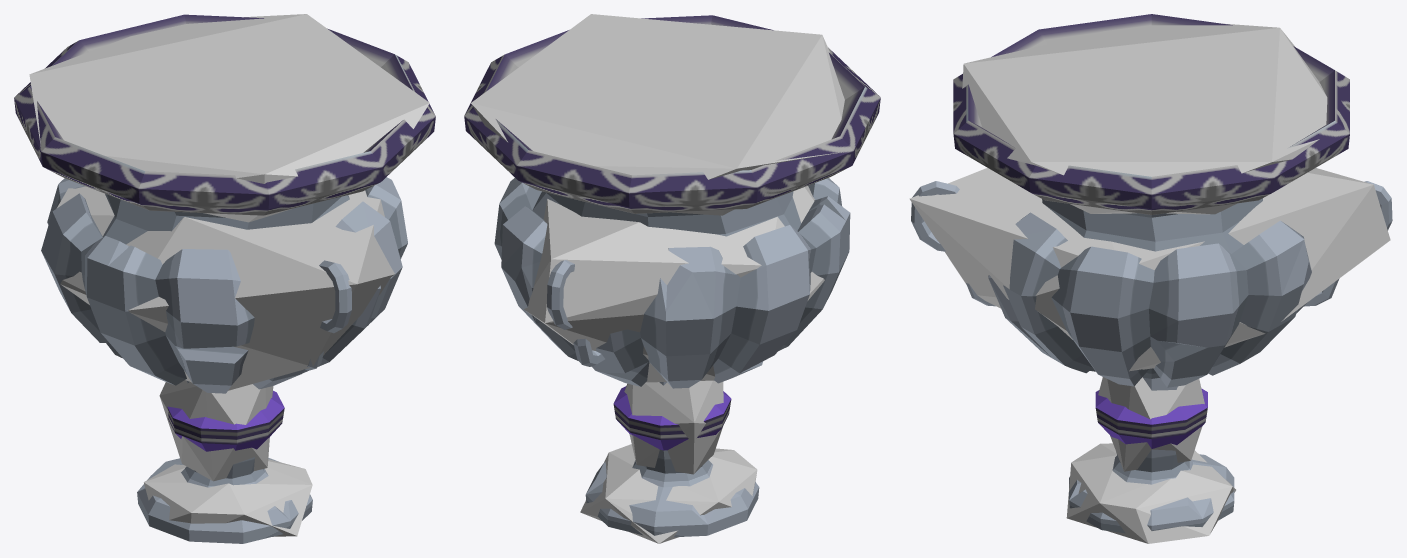
File: SM_Prop_Vase_03.fbx
The picture shows the model from 3 angles, left to right: view 1: azimuth 30°, elevation 25°; view 2: azimuth 150°, elevation 25°; view 3: azimuth 270°, elevation 25°; orthographic projection.
Visible parts, largest first — view 1: SM_Prop_Vase_03_ConvexHulls, SM_Prop_Vase_03; view 2: SM_Prop_Vase_03_ConvexHulls, SM_Prop_Vase_03; view 3: SM_Prop_Vase_03_ConvexHulls, SM_Prop_Vase_03.
Part boxes in pixels (<box>): SM_Prop_Vase_03_ConvexHulls: <box>29,14,429,536</box>; SM_Prop_Vase_03: <box>14,14,435,543</box>; SM_Prop_Vase_03_ConvexHulls: <box>471,14,844,543</box>; SM_Prop_Vase_03: <box>464,15,880,537</box>; SM_Prop_Vase_03_ConvexHulls: <box>909,23,1390,543</box>; SM_Prop_Vase_03: <box>911,14,1392,533</box>.
Bounding box in the file's own units: 62.65 × 72.58 × 68.77.
2 materials, 1 textured.
